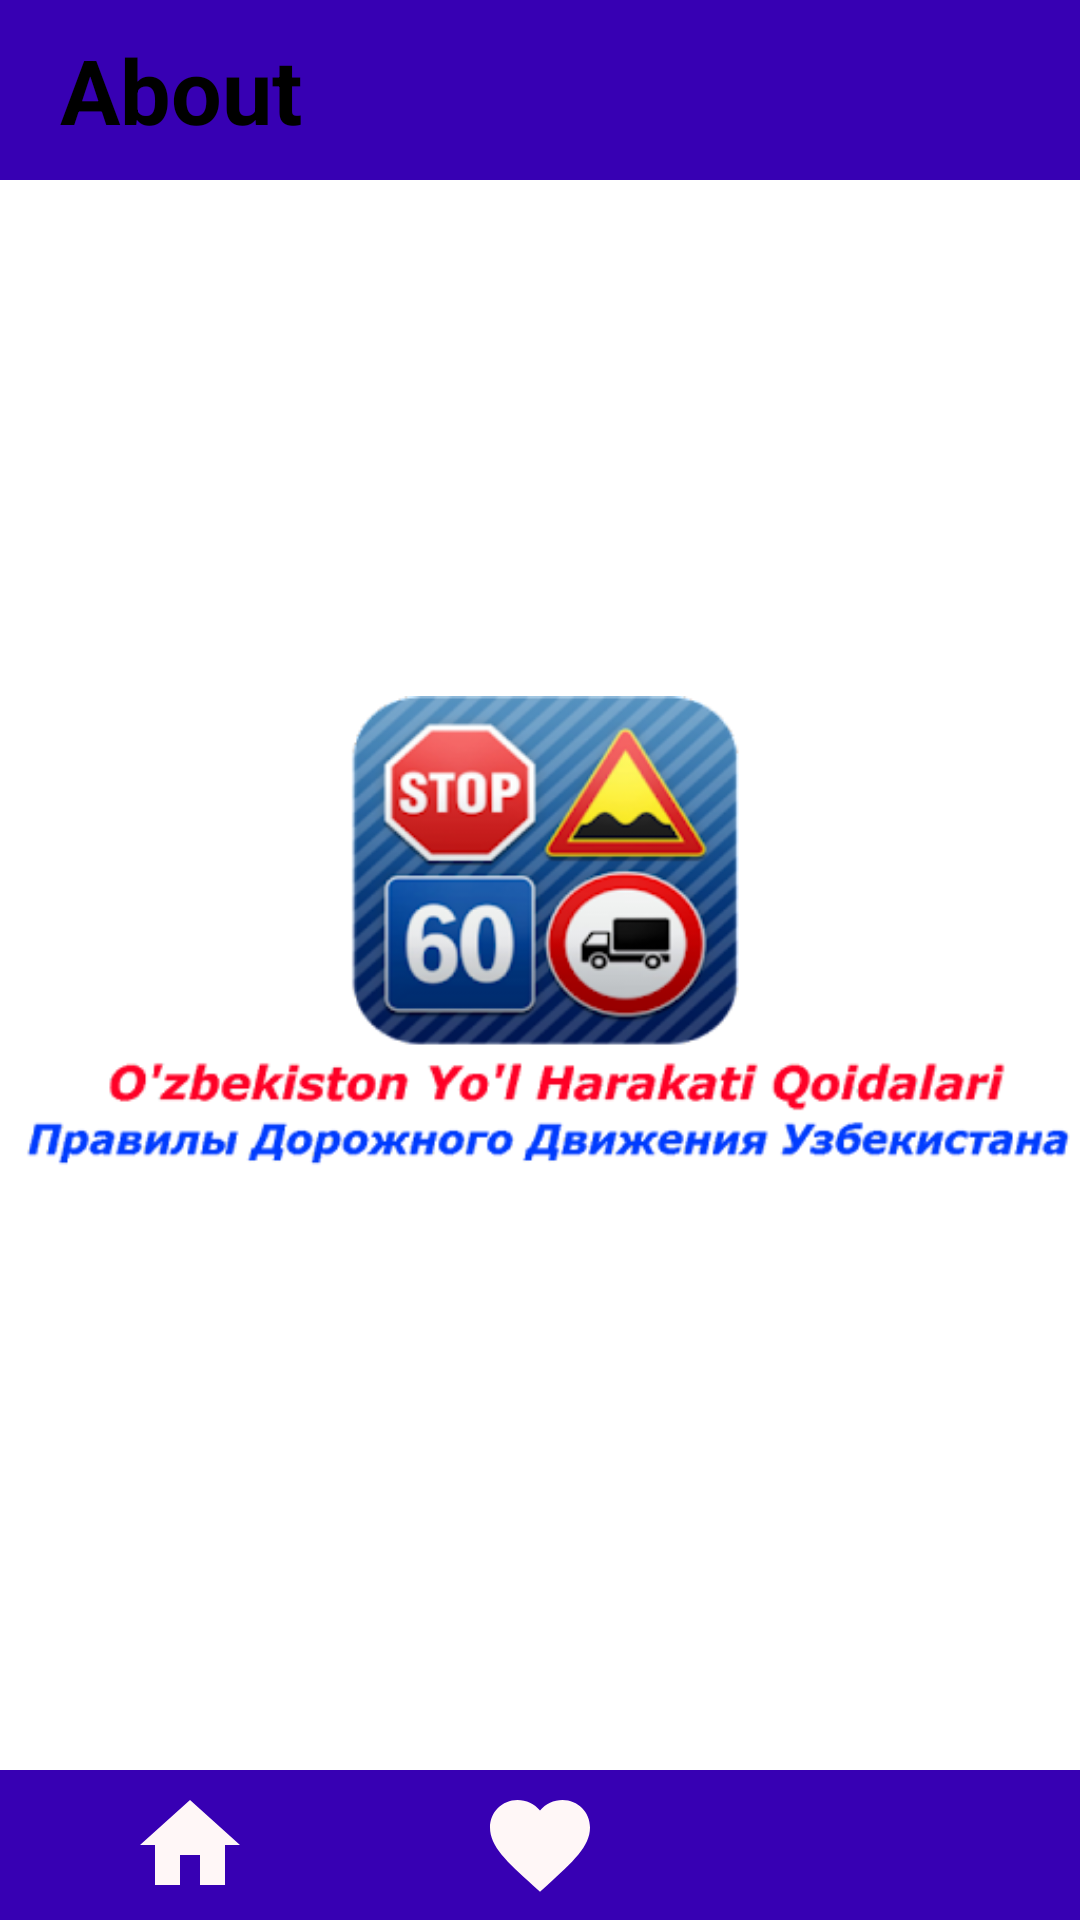

Icon click points for this 1080x1920 phone screenshot, format (x=x, y=y):
favorite: (x=540, y=1846)
home: (x=190, y=1842)
